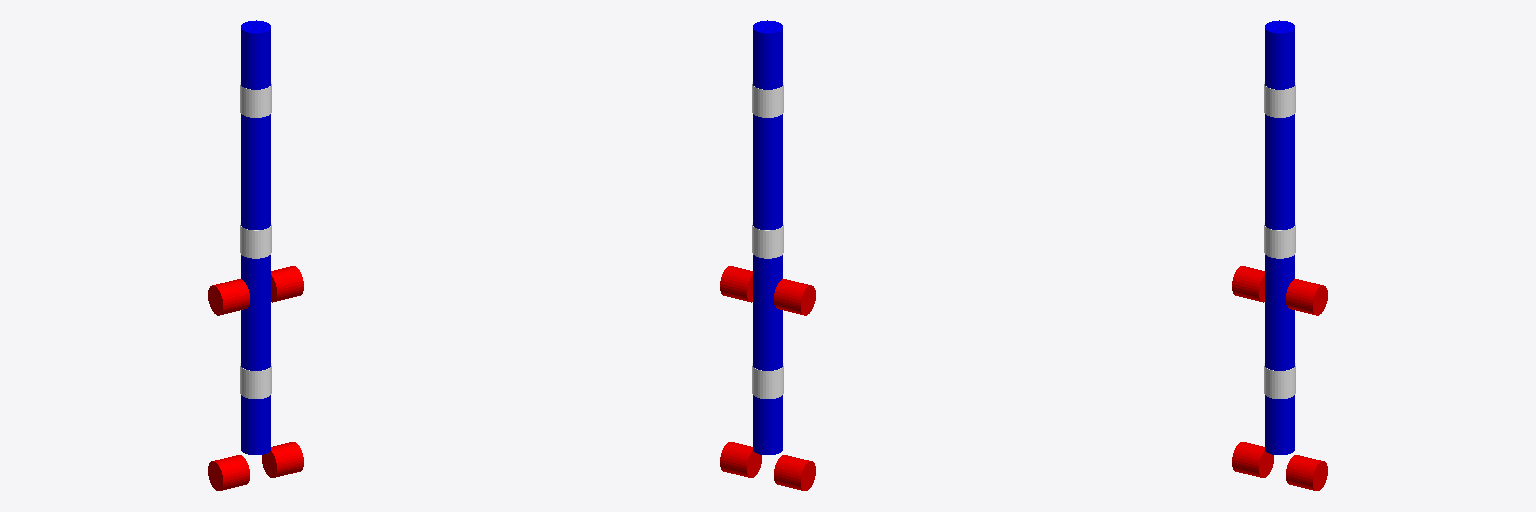
robot.urdf — finger_pen:
<?xml version="1.0" ?>
<robot name="finger_pen">

    <material name="blue">
        <color rgba="0 0 1 1"/>
    </material>

    <material name="green">
        <color rgba="0 1 0 1"/>
    </material>

    <material name="red">
        <color rgba="1 0 0 1"/>
    </material>

    <material name="white">
        <color rgba="1 1 1 1"/>
    </material>

    <link name="base"/>
<!--    <link name="base_z"/>-->
    <link name="pen">
        <inertial>
            <mass value="12.0"/>
            <inertia ixx="1.33" ixy="0" ixz="0" iyy="1.33" iyz="0" izz="1.33"/>
        </inertial>
        <visual>
            <origin xyz="0 0 1.5"/>
            <geometry>
                <cylinder length="1.5" radius="0.05"/>
            </geometry>
            <material name="blue"/>
        </visual>
    </link>
    <link name="bar1">
        <visual>
            <origin xyz="0 0 1.0"/>
            <geometry>
                <cylinder length="0.1" radius="0.051"/>
            </geometry>
            <material name="white"/>
        </visual>
    </link>
    <link name="bar2">
        <visual>
            <origin xyz="0 0 1.5"/>
            <geometry>
                <cylinder length="0.1" radius="0.051"/>
            </geometry>
            <material name="white"/>
        </visual>
    </link>
    <link name="bar3">
        <visual>
            <origin xyz="0 0 2.0"/>
            <geometry>
                <cylinder length="0.1" radius="0.051"/>
            </geometry>
            <material name="white"/>
        </visual>
    </link>
    <link name="upper_finger_left">
        <visual>
            <origin xyz="-0.1 0 1.3125" rpy="0 -1.570796 0"/>
            <geometry>
                <cylinder length="0.1" radius="0.05"/>
            </geometry>
            <material name="red"/>
        </visual>
    </link>
    <link name="upper_finger_right">
        <visual>
            <origin xyz="0.1 0 1.3125" rpy="0 -1.570796 0"/>
            <geometry>
                <cylinder length="0.1" radius="0.05"/>
            </geometry>
            <material name="red"/>
        </visual>
    </link>
    <link name="lower_finger_left">
        <visual>
            <origin xyz="-0.1 0 0.6875" rpy="0 -1.570796 0"/>
            <geometry>
                <cylinder length="0.1" radius="0.05"/>
            </geometry>
            <material name="red"/>
        </visual>
    </link>
    <link name="lower_finger_right">
        <visual>
            <origin xyz="0.1 0 0.6875" rpy="0 -1.570796 0"/>
            <geometry>
                <cylinder length="0.1" radius="0.05"/>
            </geometry>
            <material name="red"/>
        </visual>
    </link>


    <joint name="pen" type="prismatic">
        <parent link="base"/>
        <child link="pen"/>
        <axis xyz="0 0 1"/>
    </joint>
    <joint name="lower_finger_left" type="prismatic">
        <parent link="base"/>
        <child link="lower_finger_left"/>
        <axis xyz="0 0 1"/>
    </joint>
    <joint name="lower_finger_right" type="prismatic">
        <parent link="base"/>
        <child link="lower_finger_right"/>
        <axis xyz="0 0 1"/>
    </joint>
    <joint name="upper_finger_left" type="prismatic">
        <parent link="base"/>
        <child link="upper_finger_left"/>
        <axis xyz="0 0 1"/>
    </joint>
    <joint name="upper_finger_right" type="prismatic">
        <parent link="base"/>
        <child link="upper_finger_right"/>
        <axis xyz="0 0 1"/>
    </joint>
    <joint name="bar1" type="fixed">
        <parent link="pen"/>
        <child link="bar1"/>
        <axis xyz="0 0 1"/>
    </joint>
    <joint name="bar2" type="fixed">
        <parent link="pen"/>
        <child link="bar2"/>
        <axis xyz="0 0 1"/>
    </joint>
    <joint name="bar3" type="fixed">
        <parent link="pen"/>
        <child link="bar3"/>
        <axis xyz="0 0 1"/>
    </joint>

</robot>

--- What the picture shows (computed from the rendered views, not written in the file) ---
3 views of the same robot in one strip: view 1: azimuth 30°, elevation 25°; view 2: azimuth 150°, elevation 25°; view 3: azimuth 330°, elevation 25° (orthographic).
Robot: finger_pen — 9 links, 8 joints (5 prismatic, 3 fixed); root link base; default pose: all joints at 0.
Links seen in each view (by area): view 1: pen, upper_finger_left, lower_finger_left, lower_finger_right, upper_finger_right, bar2, bar1, bar3; view 2: pen, upper_finger_left, lower_finger_left, lower_finger_right, upper_finger_right, bar2, bar1, bar3; view 3: pen, upper_finger_right, lower_finger_right, lower_finger_left, upper_finger_left, bar2, bar1, bar3.
Link boxes in pixels (bbox=[...]): pen: bbox=[241, 20, 270, 454]; upper_finger_left: bbox=[208, 279, 249, 315]; lower_finger_left: bbox=[208, 455, 249, 490]; lower_finger_right: bbox=[262, 442, 303, 477]; upper_finger_right: bbox=[271, 266, 303, 302]; bar2: bbox=[240, 223, 271, 258]; bar1: bbox=[240, 363, 271, 398]; bar3: bbox=[240, 82, 271, 117]; pen: bbox=[753, 20, 782, 454]; upper_finger_left: bbox=[774, 279, 815, 315]; lower_finger_left: bbox=[774, 455, 815, 490]; lower_finger_right: bbox=[720, 442, 761, 477]; upper_finger_right: bbox=[720, 266, 752, 302]; bar2: bbox=[752, 223, 783, 258]; bar1: bbox=[752, 363, 783, 398]; bar3: bbox=[752, 82, 783, 117]; pen: bbox=[1265, 20, 1294, 454]; upper_finger_right: bbox=[1286, 279, 1327, 315]; lower_finger_right: bbox=[1286, 455, 1327, 490]; lower_finger_left: bbox=[1232, 442, 1273, 477]; upper_finger_left: bbox=[1232, 266, 1264, 302]; bar2: bbox=[1264, 223, 1295, 258]; bar1: bbox=[1264, 363, 1295, 398]; bar3: bbox=[1264, 82, 1295, 117].
Bounding box of the posed robot: 0.3 × 0.102 × 1.61 m (x, y, z).
Geometry: primitives only (box / cylinder / sphere), no mesh files.